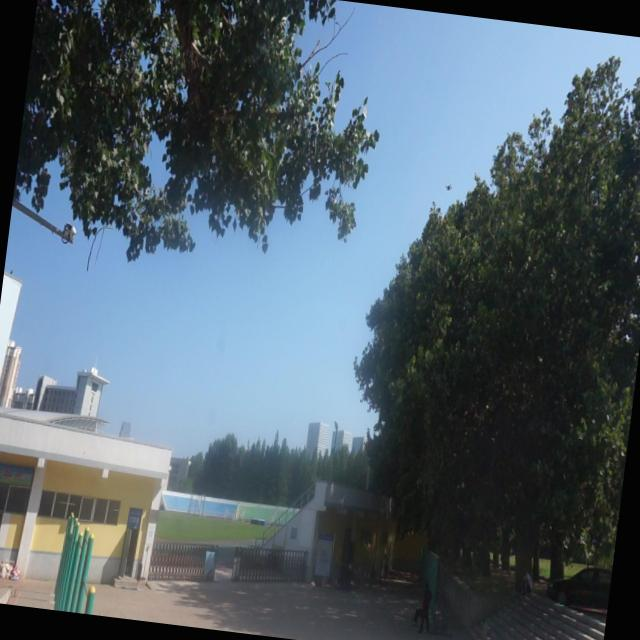drone: (441, 177, 455, 196)
